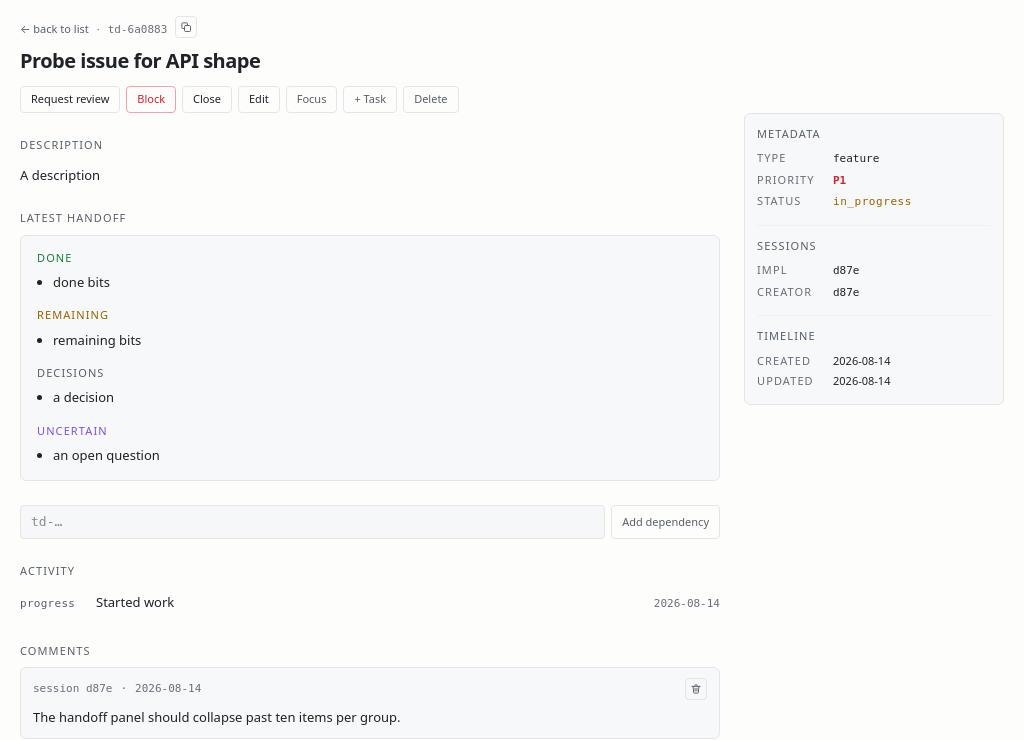
IssueDetail › opens the edit form seeded with the current values
The image size is (1024, 740).
Click the button "Edit".
click(259, 99)  # box [238,86,280,112]
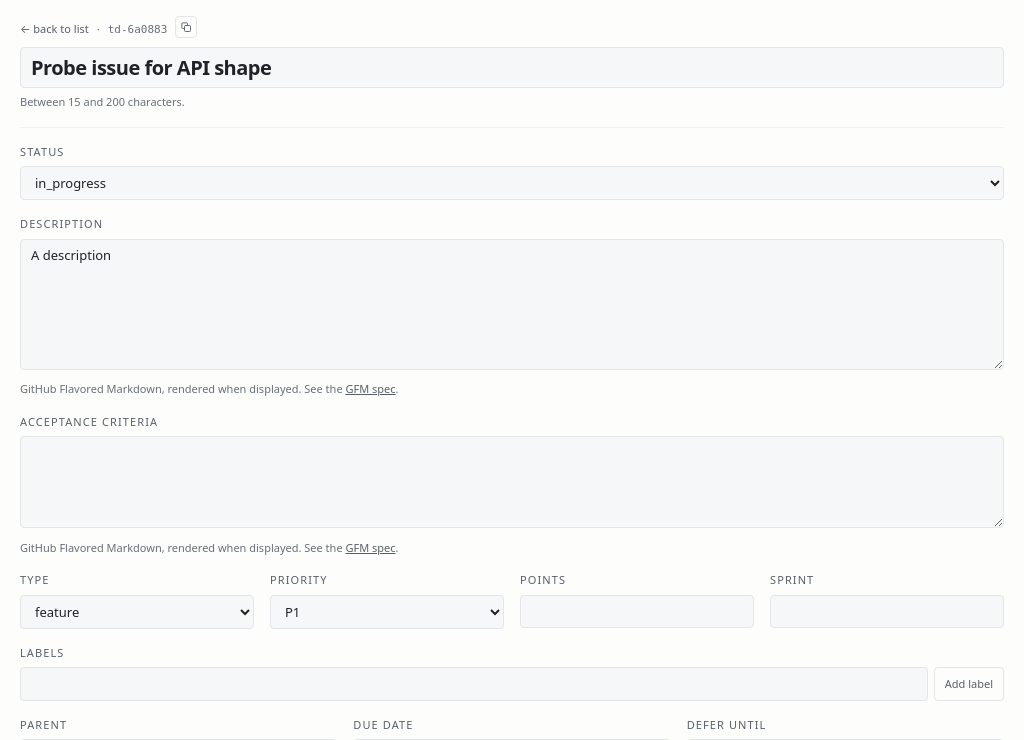
Expected: the field named "Title" holds "Probe issue for API shape", [20,46,1004,88]
